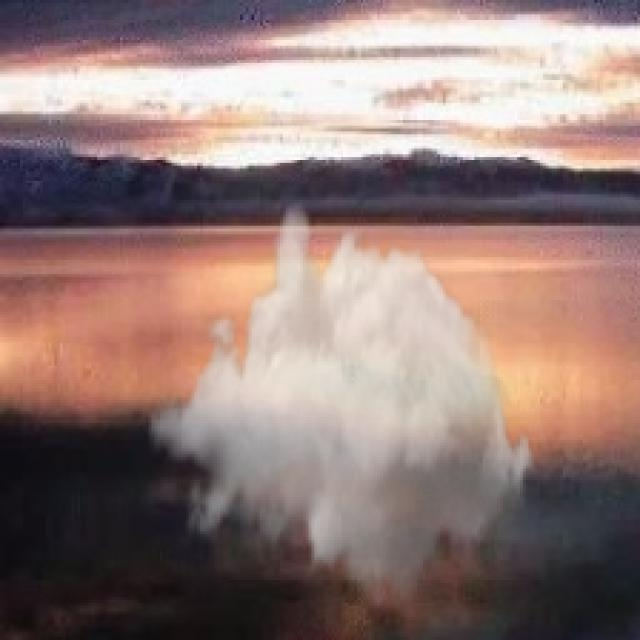smoke: (146, 197, 537, 614)
